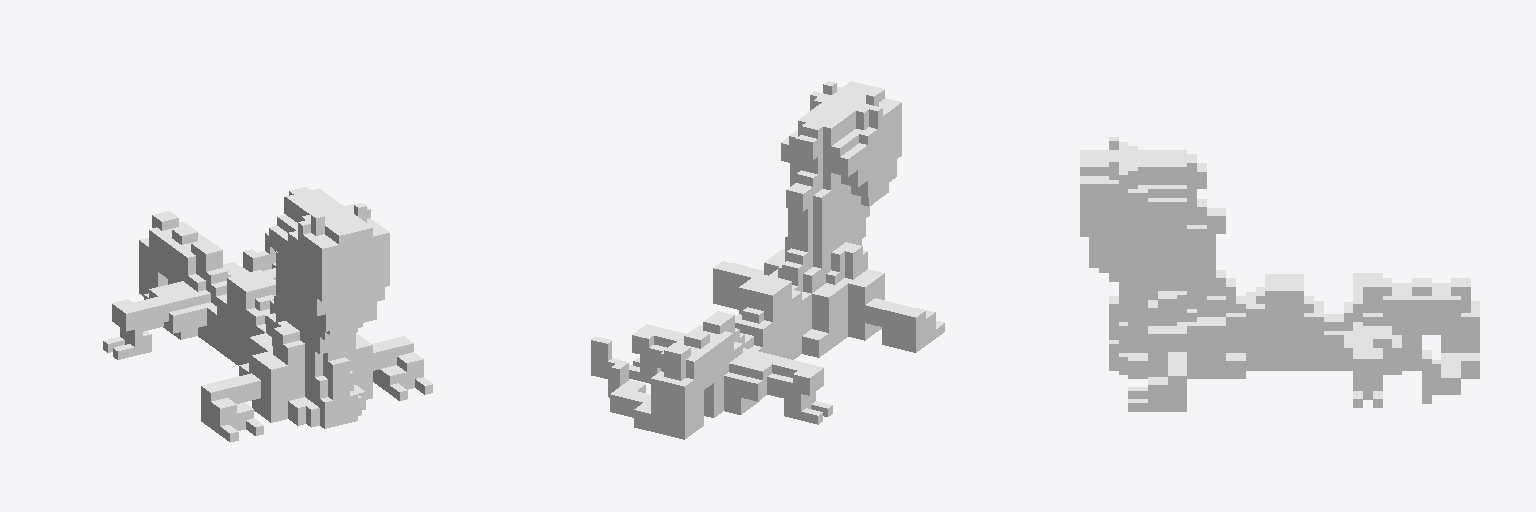
The model's file is lizardmonitor-0.obj.
3 views of the same model, side by side, from view 1: azimuth 30°, elevation 25°; view 2: azimuth 150°, elevation 25°; view 3: azimuth 270°, elevation 25° (orthographic).
Visible parts, largest first — view 1: object 1; view 2: object 1; view 3: object 1.
Part boxes in pixels (x1,y1,x2,y2): object 1: (103, 187, 432, 442); object 1: (591, 81, 944, 439); object 1: (1080, 137, 1479, 411).
Bounding box in the file's own units: 2.4 × 2.4 × 4.1.